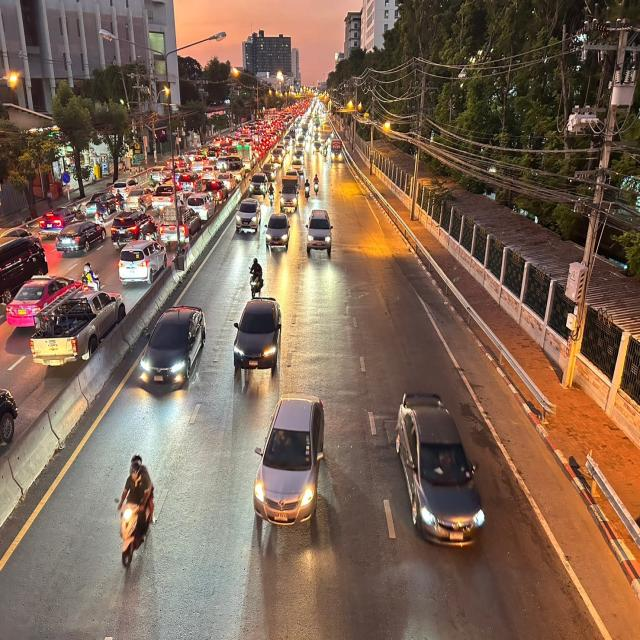bike: (113, 446, 159, 579), (243, 250, 270, 310)
car: (248, 388, 331, 539)
